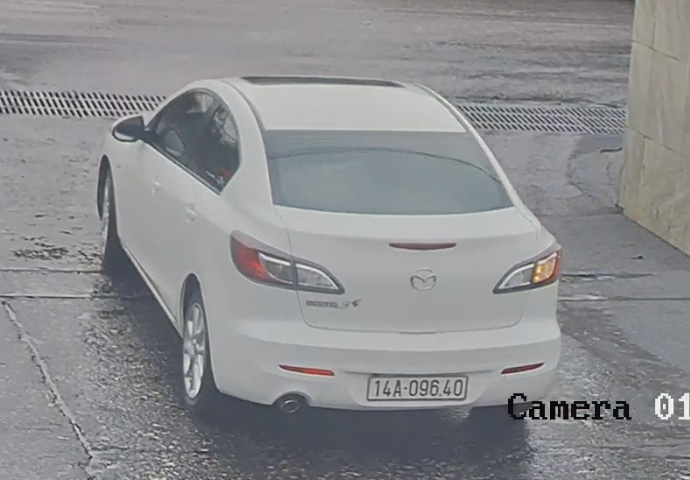vehicle plate: (368, 372, 470, 405)
